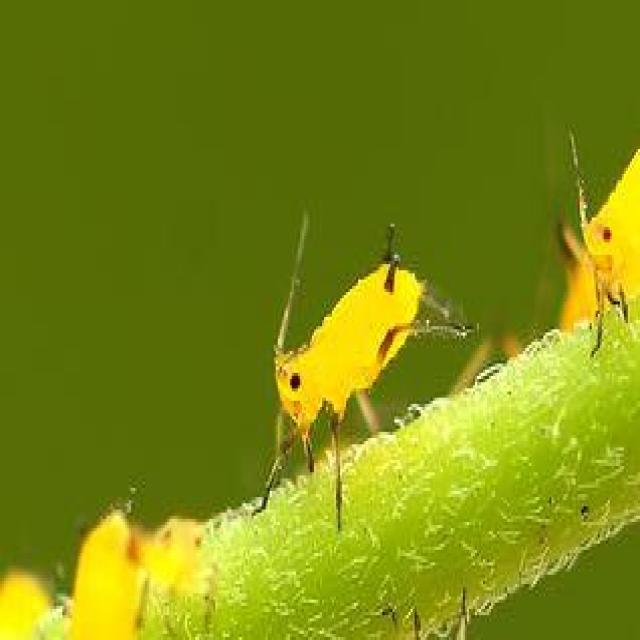Aphids: (235, 194, 500, 554)
